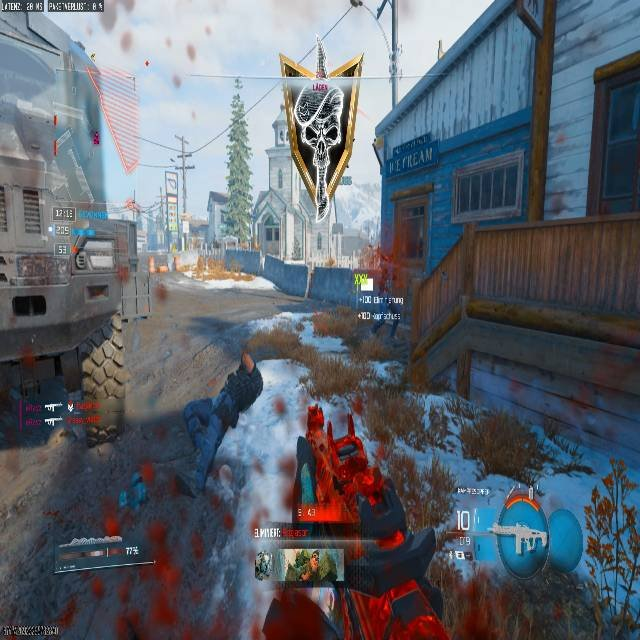player: (66, 241, 89, 275)
